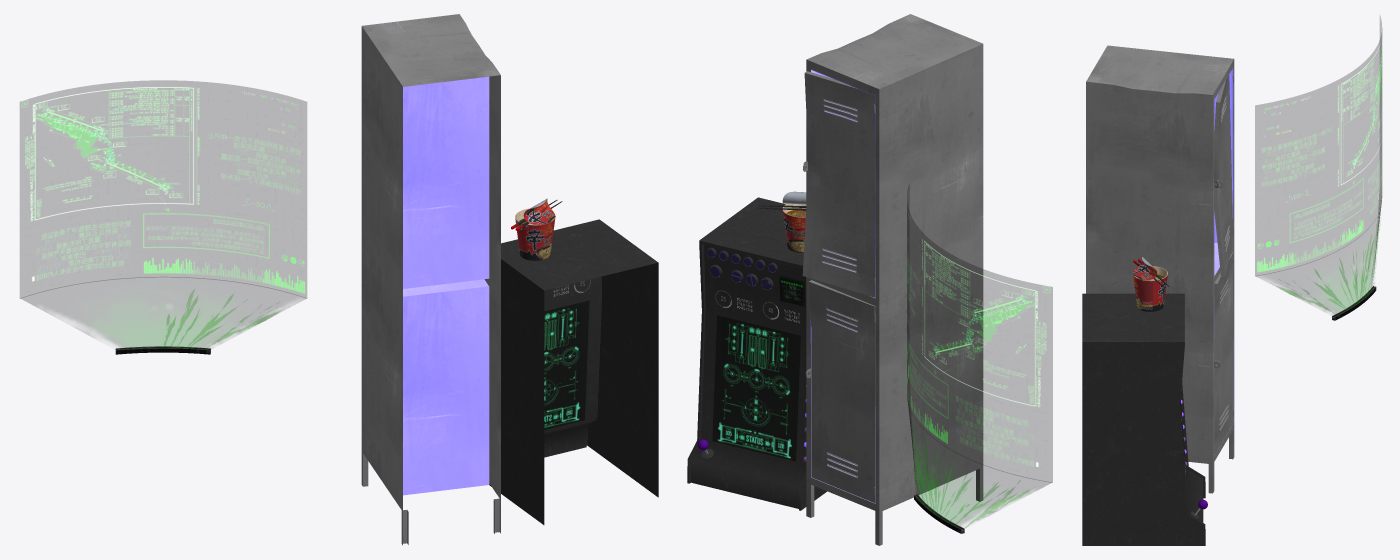
File: cyberpunk_assets.glb
3 renders of one model, left to right at view 1: azimuth 30°, elevation 25°; view 2: azimuth 150°, elevation 25°; view 3: azimuth 270°, elevation 25°, orthographic. The views are drawn at different scales.
Visible parts, largest first — view 1: Object_7, Object_2, Object_5, Object_4, Object_3; view 2: Object_7, Object_5, Object_2, Object_4, Object_3; view 3: Object_7, Object_5, Object_2, Object_4, Object_3.
Part boxes in pixels (x1,y1,x2,y2): Object_7: (361, 14, 500, 545); Object_2: (20, 80, 306, 297); Object_5: (489, 219, 658, 524); Object_4: (20, 277, 306, 354); Object_3: (511, 198, 562, 260); Object_7: (802, 14, 983, 545); Object_5: (687, 197, 826, 510); Object_2: (907, 184, 1052, 482); Object_4: (907, 380, 1051, 533); Object_3: (759, 191, 806, 252); Object_7: (1086, 45, 1234, 493); Object_5: (1082, 293, 1207, 545); Object_2: (1255, 16, 1382, 275); Object_4: (1256, 188, 1381, 320); Object_3: (1133, 257, 1169, 311).
Bounding box in the file's own units: 56.96 × 53.11 × 36.63.
5 materials, 5 textured.
